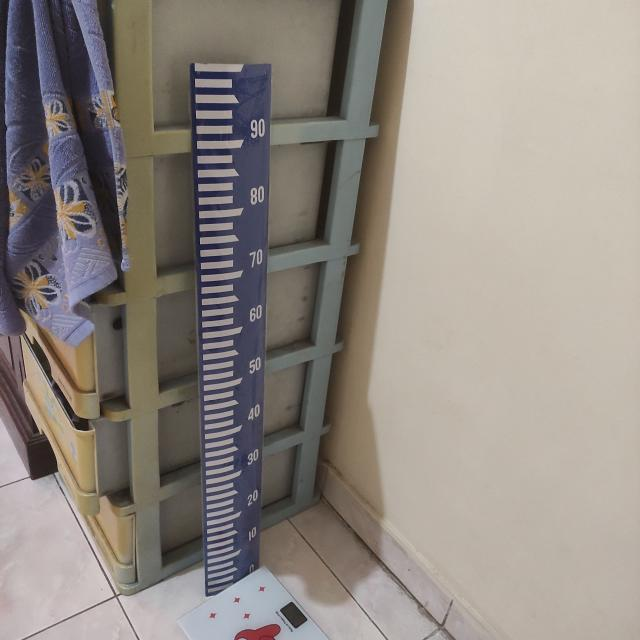10: (247, 526, 259, 541)
20: (245, 489, 260, 509)
30: (246, 448, 261, 467)
40: (246, 404, 262, 425)
50: (248, 355, 262, 376)
60: (247, 302, 263, 323)
70: (250, 248, 264, 268)
80: (250, 186, 269, 207)
90: (248, 116, 266, 140)
staff: (193, 61, 271, 571)
